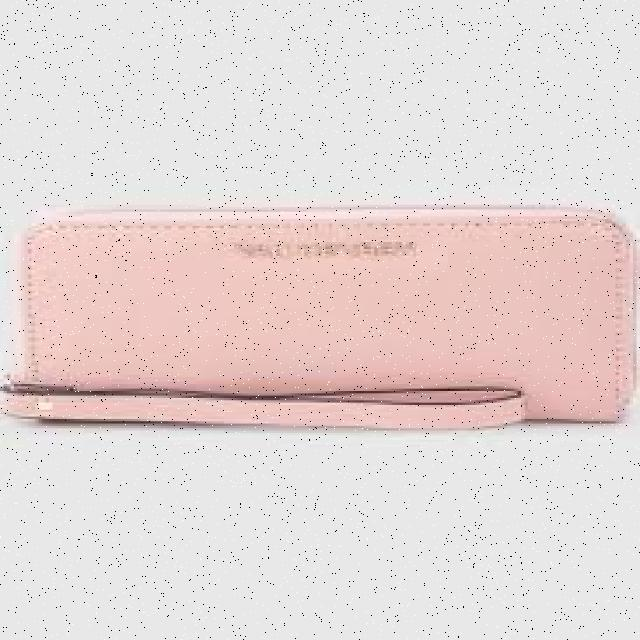handbag: (0, 203, 637, 428)
